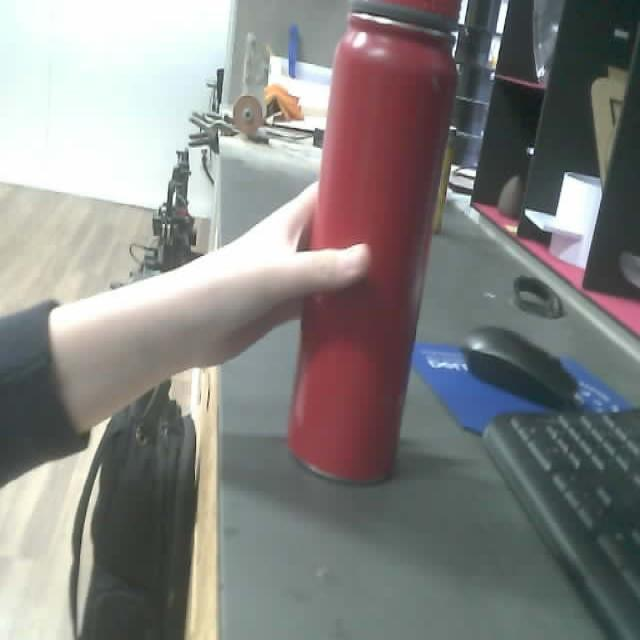water bottle: (287, 0, 466, 485)
